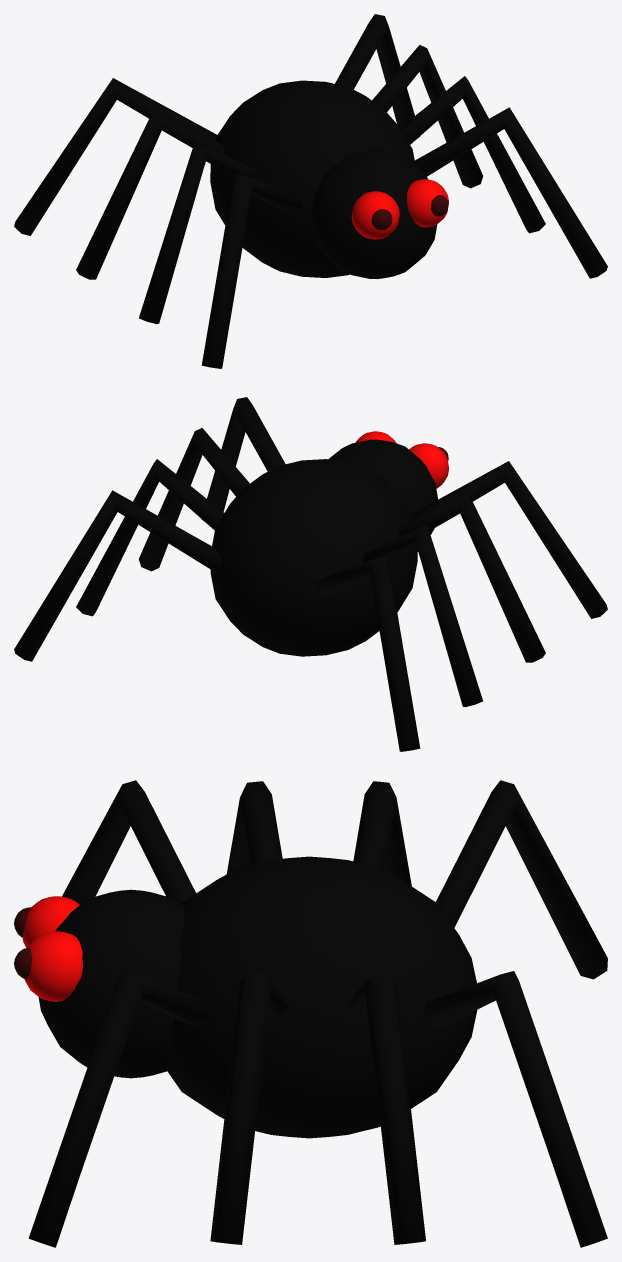
The model's file is Deco_Spider.fbx.
3 views of the same model, one above another, from view 1: azimuth 30°, elevation 25°; view 2: azimuth 150°, elevation 25°; view 3: azimuth 270°, elevation 25° (orthographic). The views are drawn at different scales.
Visible parts, largest first — view 1: Deco_Spider; view 2: Deco_Spider; view 3: Deco_Spider.
Boxes of the visible parts, x1,y1,x2,y2 form: Deco_Spider: [14, 14, 607, 368]; Deco_Spider: [14, 397, 607, 751]; Deco_Spider: [14, 780, 607, 1247].
Size of the model in its own units: 0.23 by 0.095 by 0.2001.
